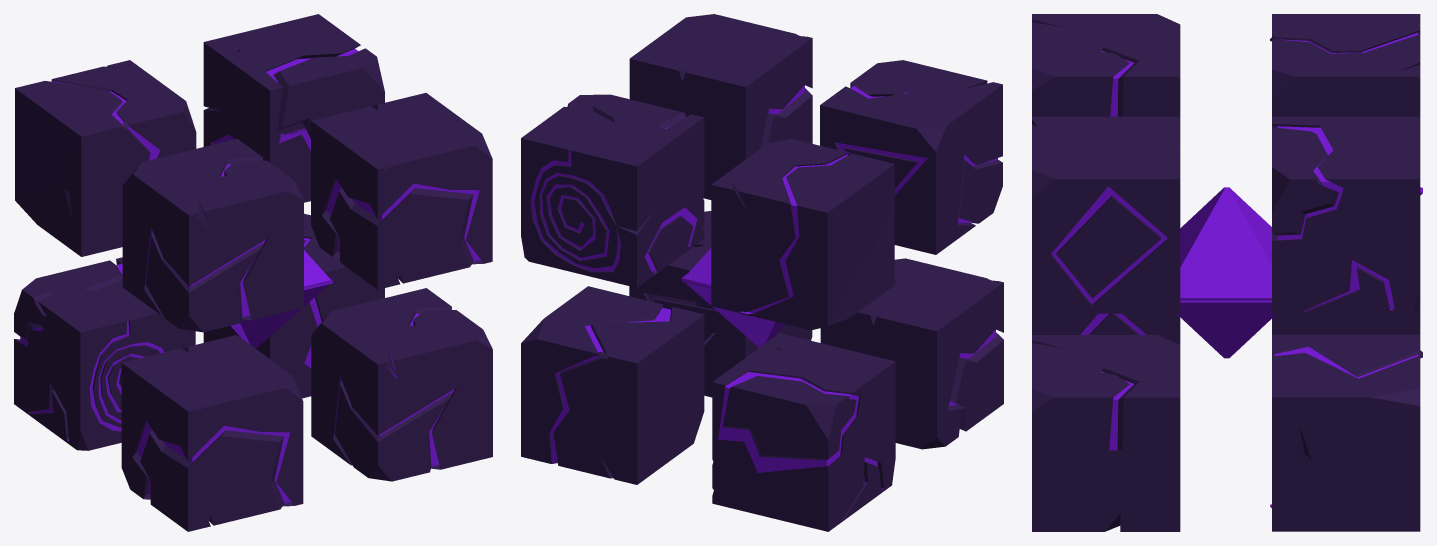
File: HipostasisElementalPysco.glb
3 renders of one model, left to right at view 1: azimuth 30°, elevation 25°; view 2: azimuth 150°, elevation 25°; view 3: azimuth 270°, elevation 25°, orthographic. The views are drawn at different scales.
Parts seen in each view (by area): view 1: Cube8, Cube1, Cube6, Cube7, Cube4, Cube3, Cube2, Cube5, Nucleo; view 2: Cube3, Cube2, Cube4, Cube5, Cube6, Cube8, Cube1, Cube7, Nucleo; view 3: Cube5, Cube1, Cube2, Cube7, Cube4, Cube6, Nucleo, Cube8, Cube3.
Part boxes in pixels (x1,y1,x2,y2): Cube8: [121, 335, 303, 531]; Cube1: [311, 93, 492, 289]; Cube6: [122, 139, 303, 332]; Cube7: [311, 288, 492, 481]; Cube4: [15, 60, 196, 256]; Cube3: [14, 257, 195, 450]; Cube2: [203, 14, 384, 202]; Cube5: [203, 213, 384, 398]; Nucleo: [230, 250, 332, 348]; Cube3: [712, 333, 895, 531]; Cube2: [521, 94, 704, 287]; Cube4: [711, 138, 894, 330]; Cube5: [521, 286, 704, 484]; Cube6: [820, 60, 1002, 254]; Cube8: [820, 258, 1003, 449]; Cube1: [629, 14, 812, 199]; Cube7: [629, 211, 812, 397]; Nucleo: [681, 248, 785, 347]; Cube5: [1270, 334, 1422, 531]; Cube1: [1032, 116, 1180, 313]; Cube2: [1272, 116, 1420, 313]; Cube7: [1032, 335, 1180, 531]; Cube4: [1270, 14, 1422, 195]; Cube6: [1032, 14, 1180, 116]; Nucleo: [1177, 187, 1276, 358]; Cube8: [1032, 313, 1180, 344]; Cube3: [1272, 310, 1420, 334].
Bounding box in the file's own units: 4.23 × 4.24 × 4.21.
